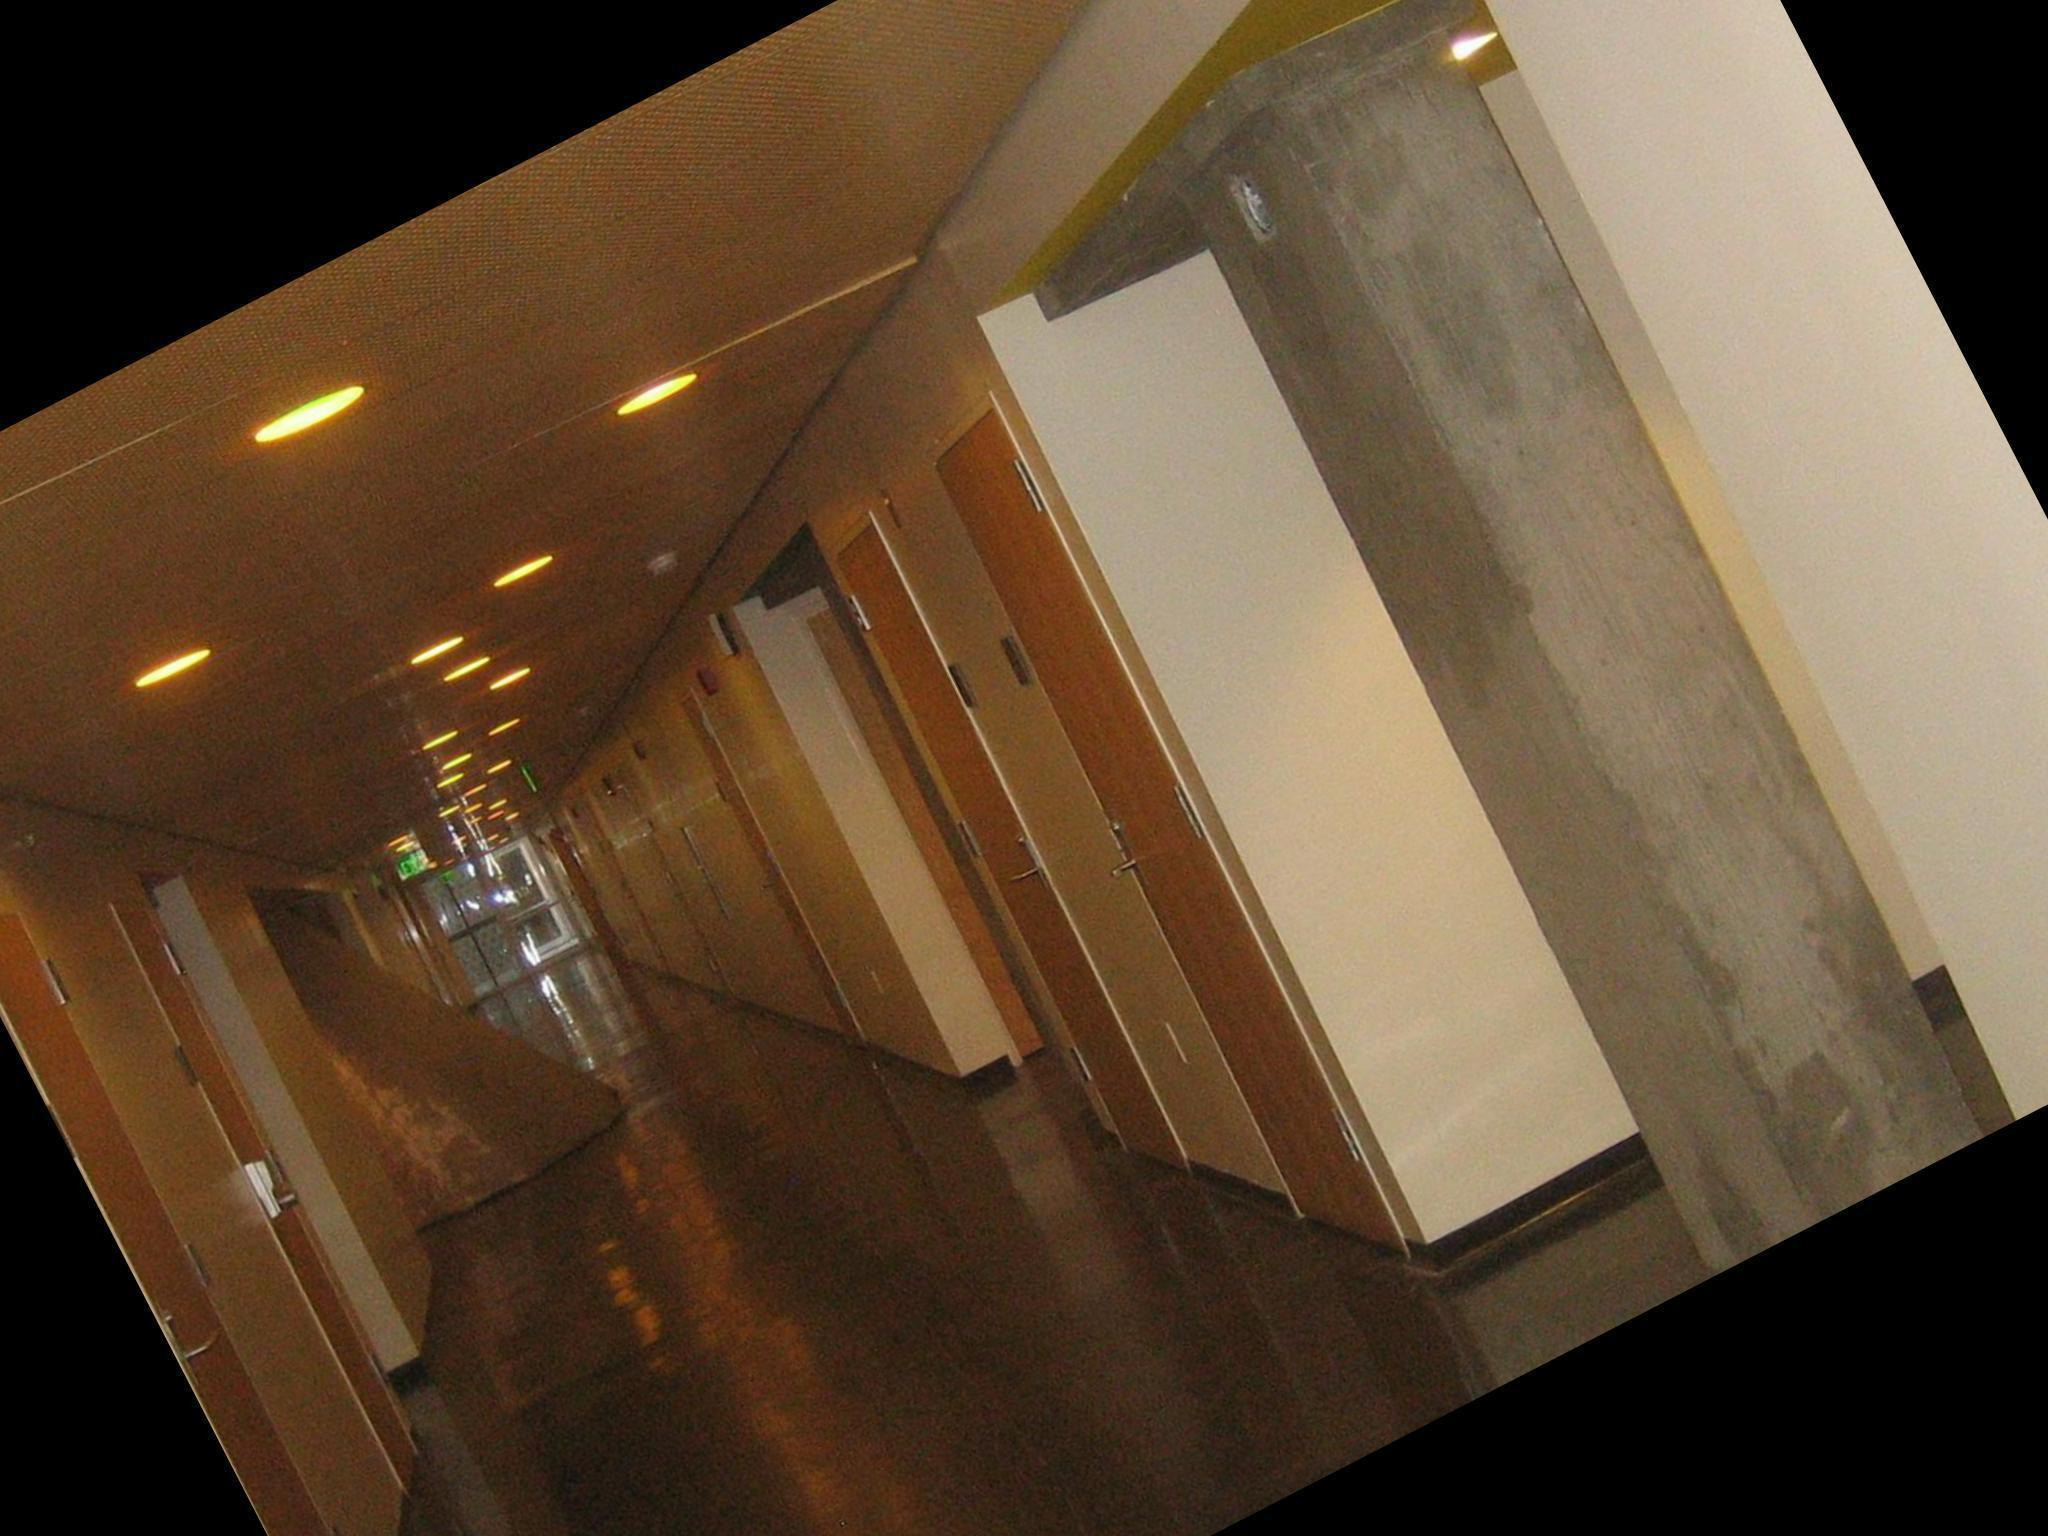Puerta: (903, 428, 1421, 1281), (797, 503, 1213, 1208), (0, 879, 443, 1536)
